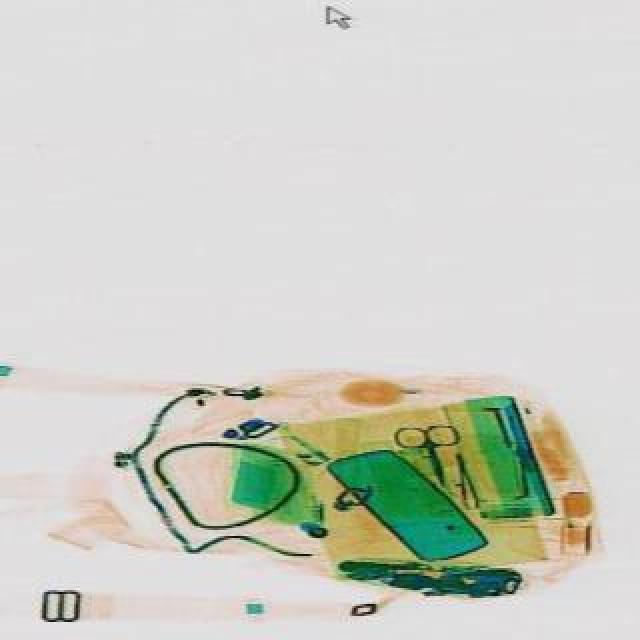pliers: (388, 420, 460, 492)
